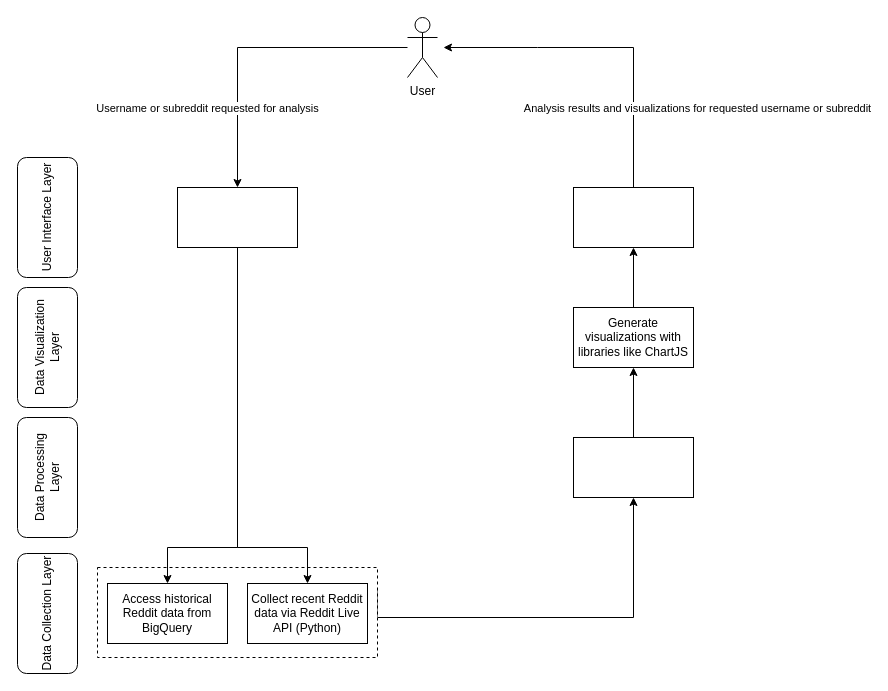
The diagram is 888 pixels wide and 691 high, and some of its shapes have lost their labels. Each missing label, with the centre of its shape:
"Display visualizations in user interface" belongs at [633,217].
"Perform several data analysis and recommendation algorithms" belongs at [633,467].
"Vue UI with input field" belongs at [237,217].
